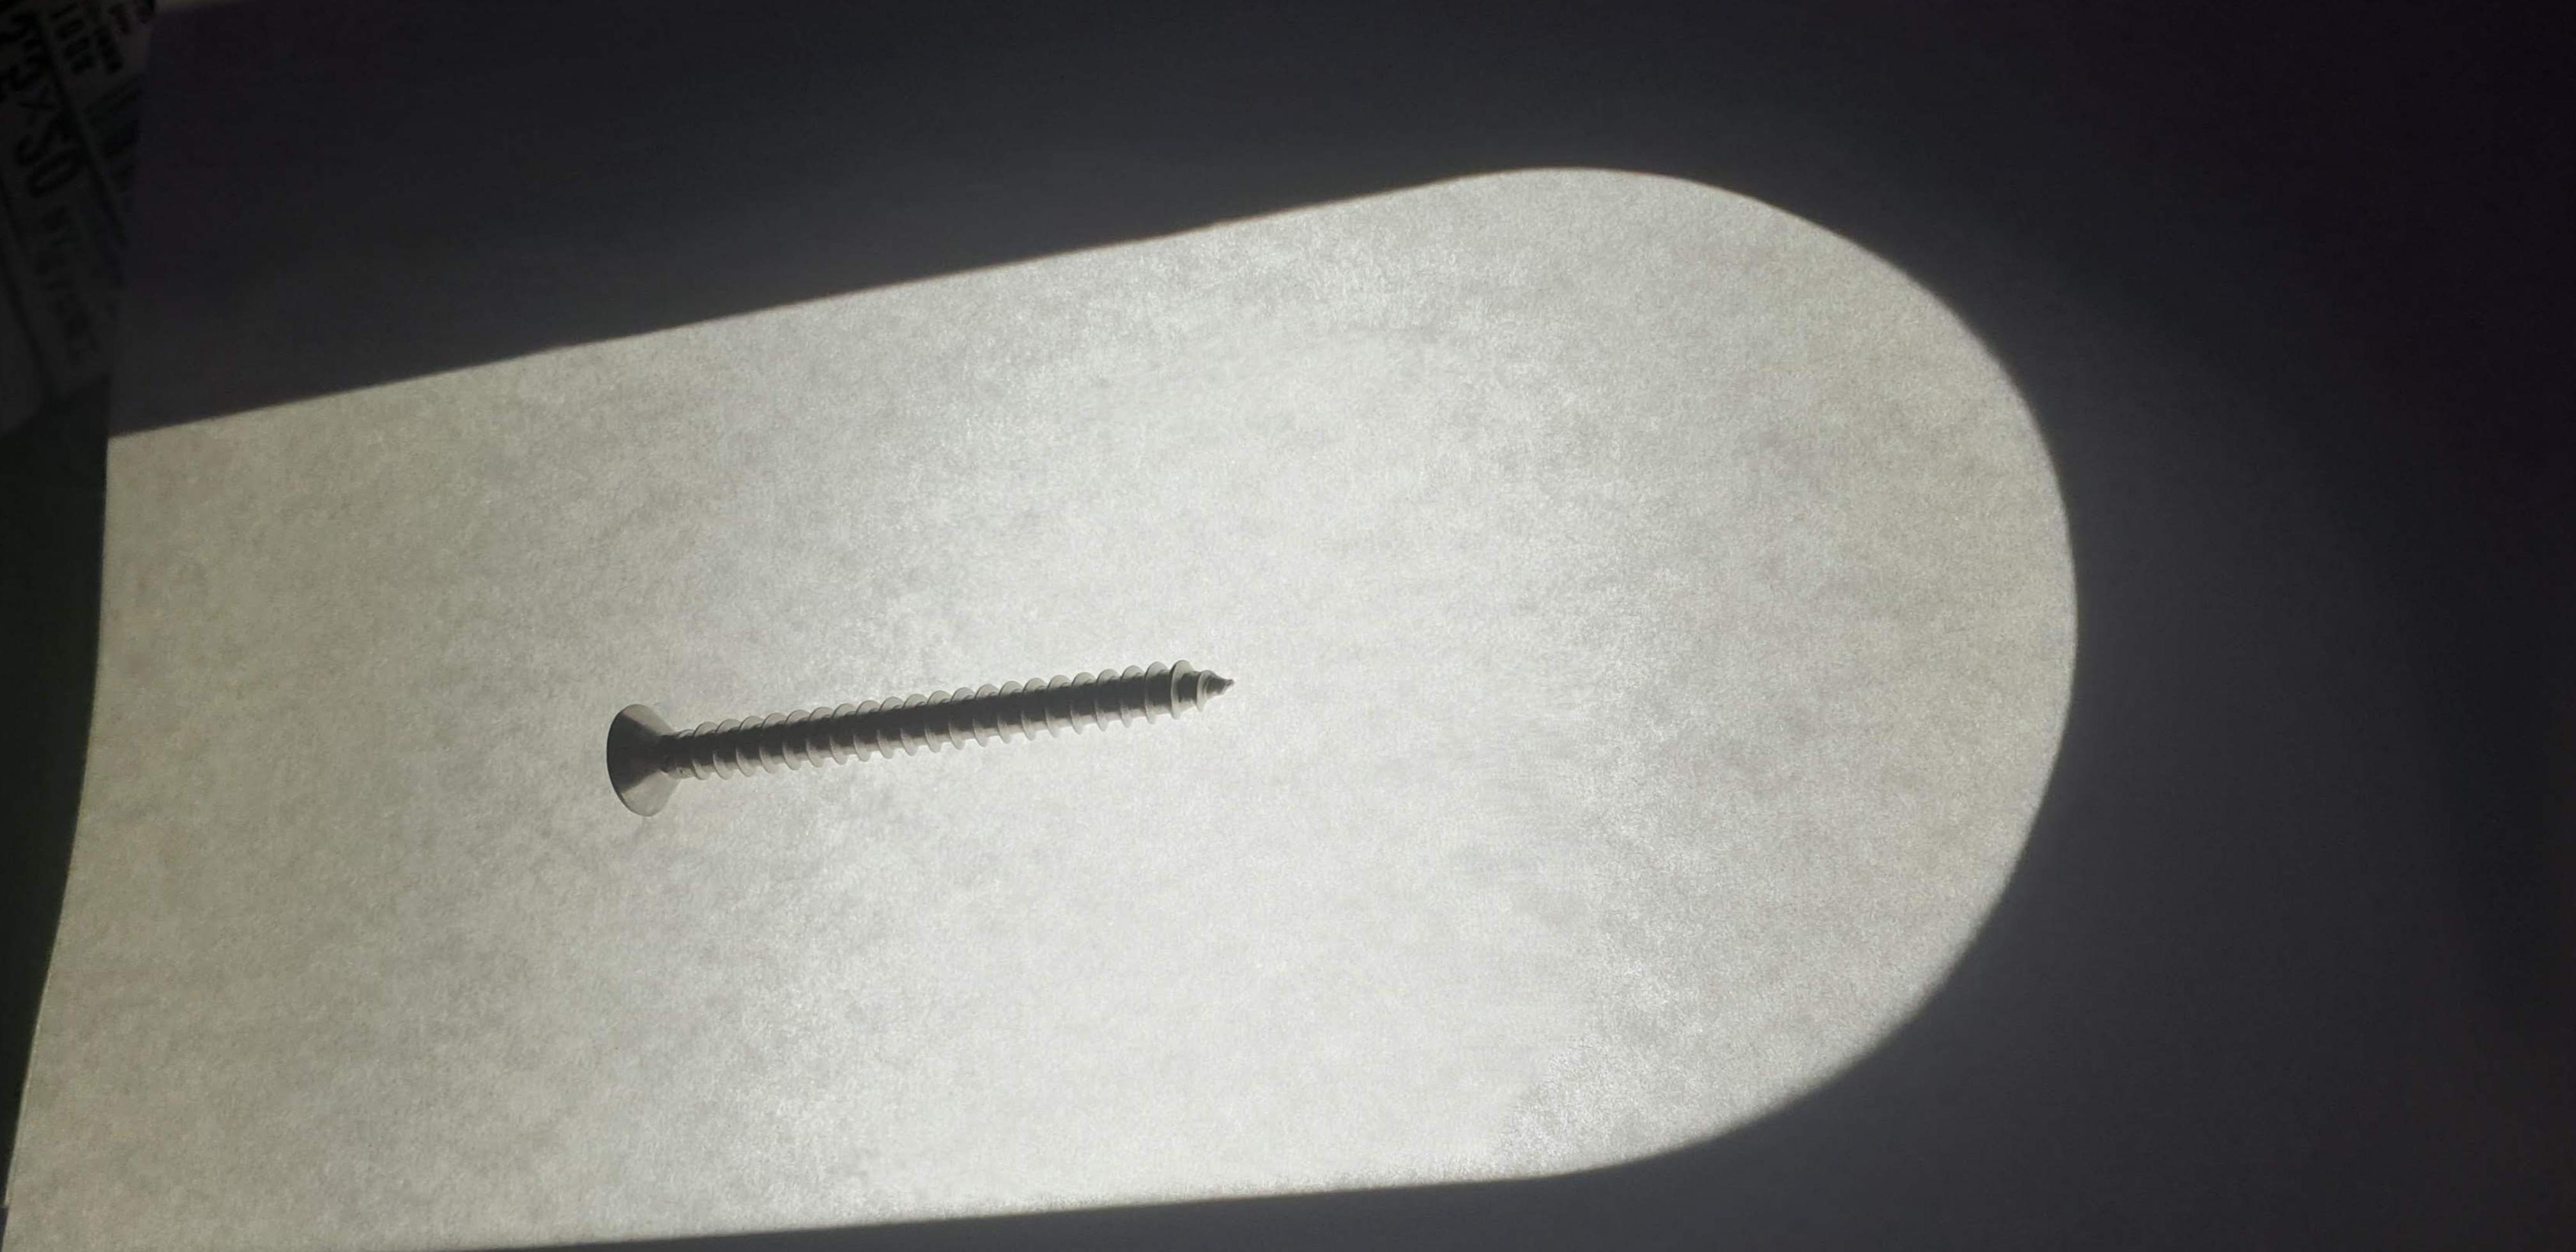S001: (555, 644, 1304, 833)
